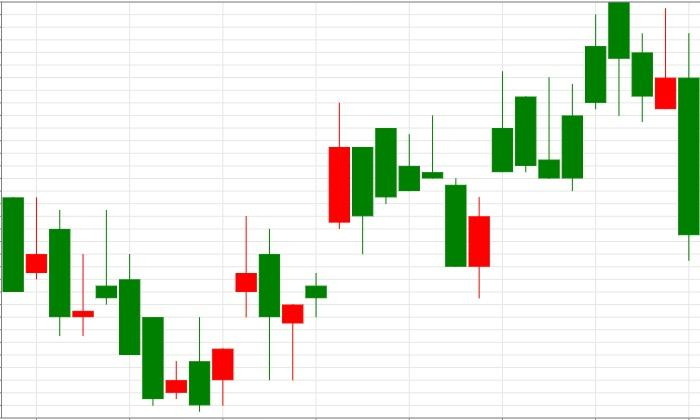hammer_rise: (234, 216, 304, 381)
